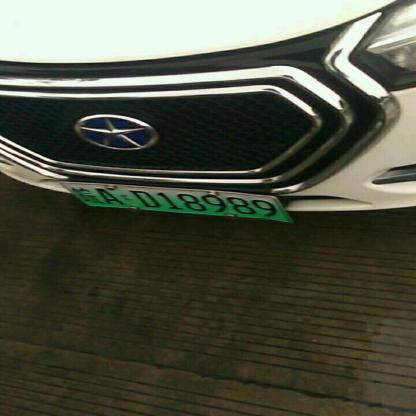lp: (61, 184, 291, 222)
